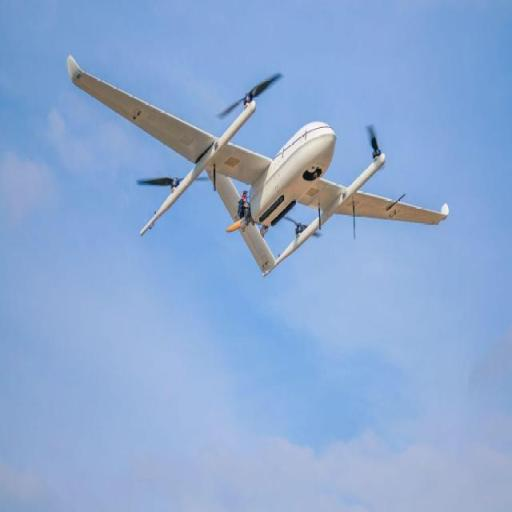uav: (65, 48, 453, 280)
